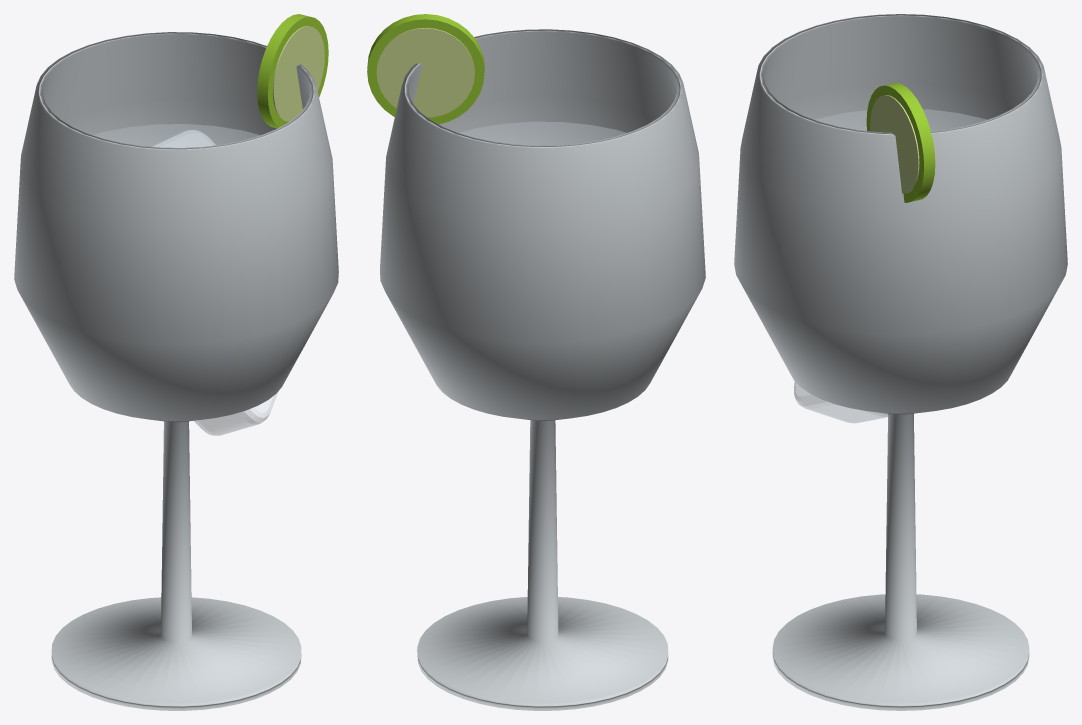
The model's file is bibite-gin-tonic.glb.
The picture shows the model from 3 angles, left to right: view 1: azimuth 30°, elevation 25°; view 2: azimuth 150°, elevation 25°; view 3: azimuth 270°, elevation 25°; orthographic projection. The views are drawn at different scales.
Bounding box in the file's own units: 0.1124 × 0.2154 × 0.104.
